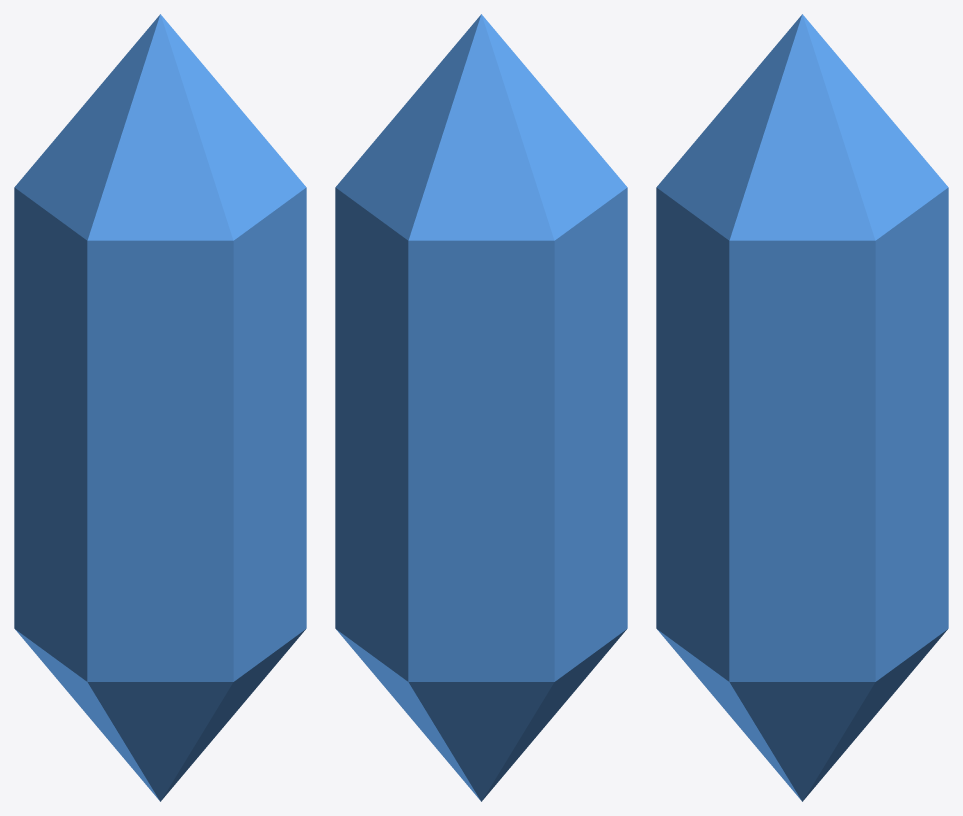
File: spark-emblem.glb
3 renders of one model, left to right at view 1: azimuth 30°, elevation 25°; view 2: azimuth 150°, elevation 25°; view 3: azimuth 270°, elevation 25°, orthographic.
Parts seen in each view (by area): view 1: Crystal; view 2: Crystal; view 3: Crystal.
Boxes of the visible parts, bbox=[...] form: Crystal: bbox=[14, 14, 306, 801]; Crystal: bbox=[335, 14, 627, 801]; Crystal: bbox=[656, 14, 948, 801].
Bounding box in the file's own units: 0.7275 × 2.5 × 0.84.
